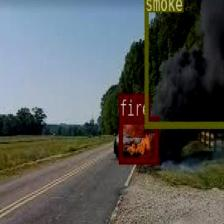fire: (118, 116, 157, 163)
smoke: (144, 0, 224, 127)
